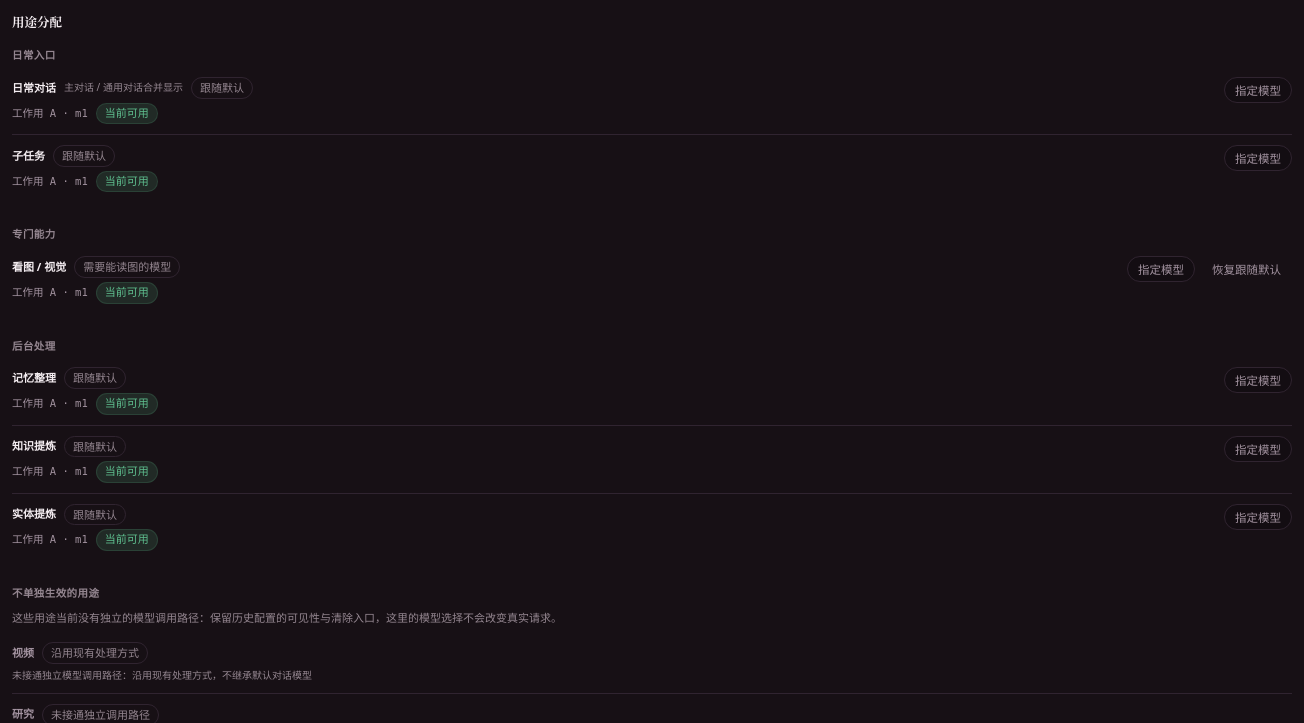
Test case: 用途分配 · 不生效的用途改为只读说明 › 打开候选时按该用途向服务端取候选判定（只读本地事实，不发验证）
This screenshot has width=1304, height=723.
Expected: the element showing "看图 / 视觉 需要能读图的模型 工作用 A · m1 当前可用 指定模型 恢复跟随默认" is shown, [12, 246, 1292, 314]
Click the button "指定模型" in the row of "需要能读图的模型".
click(1161, 269)  # box [1127, 256, 1195, 282]
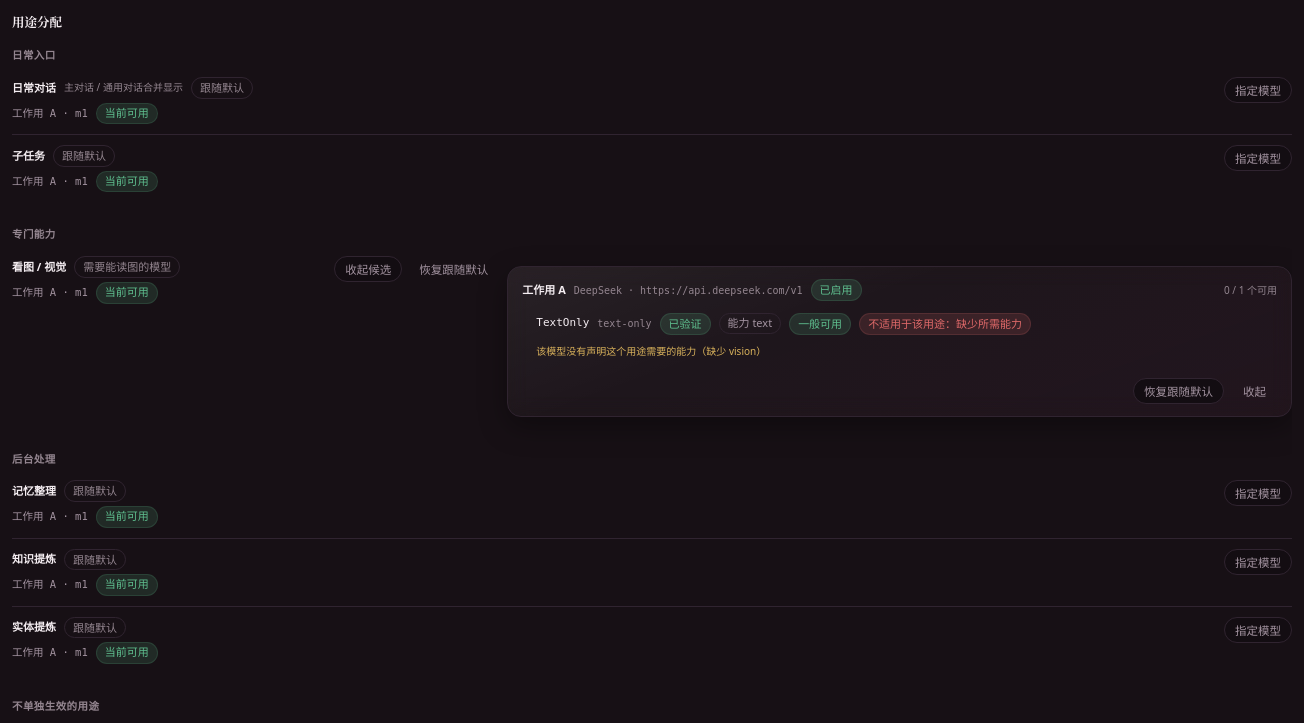
Expected: the element that starts with "看图 / 视觉" is shown, [12, 246, 1292, 426]
Now the button with class "model" is disabled, box [522, 305, 1277, 368]
Now the element that starts with "看图 / 视觉" shows "缺少 vision", box [522, 305, 1277, 368]
